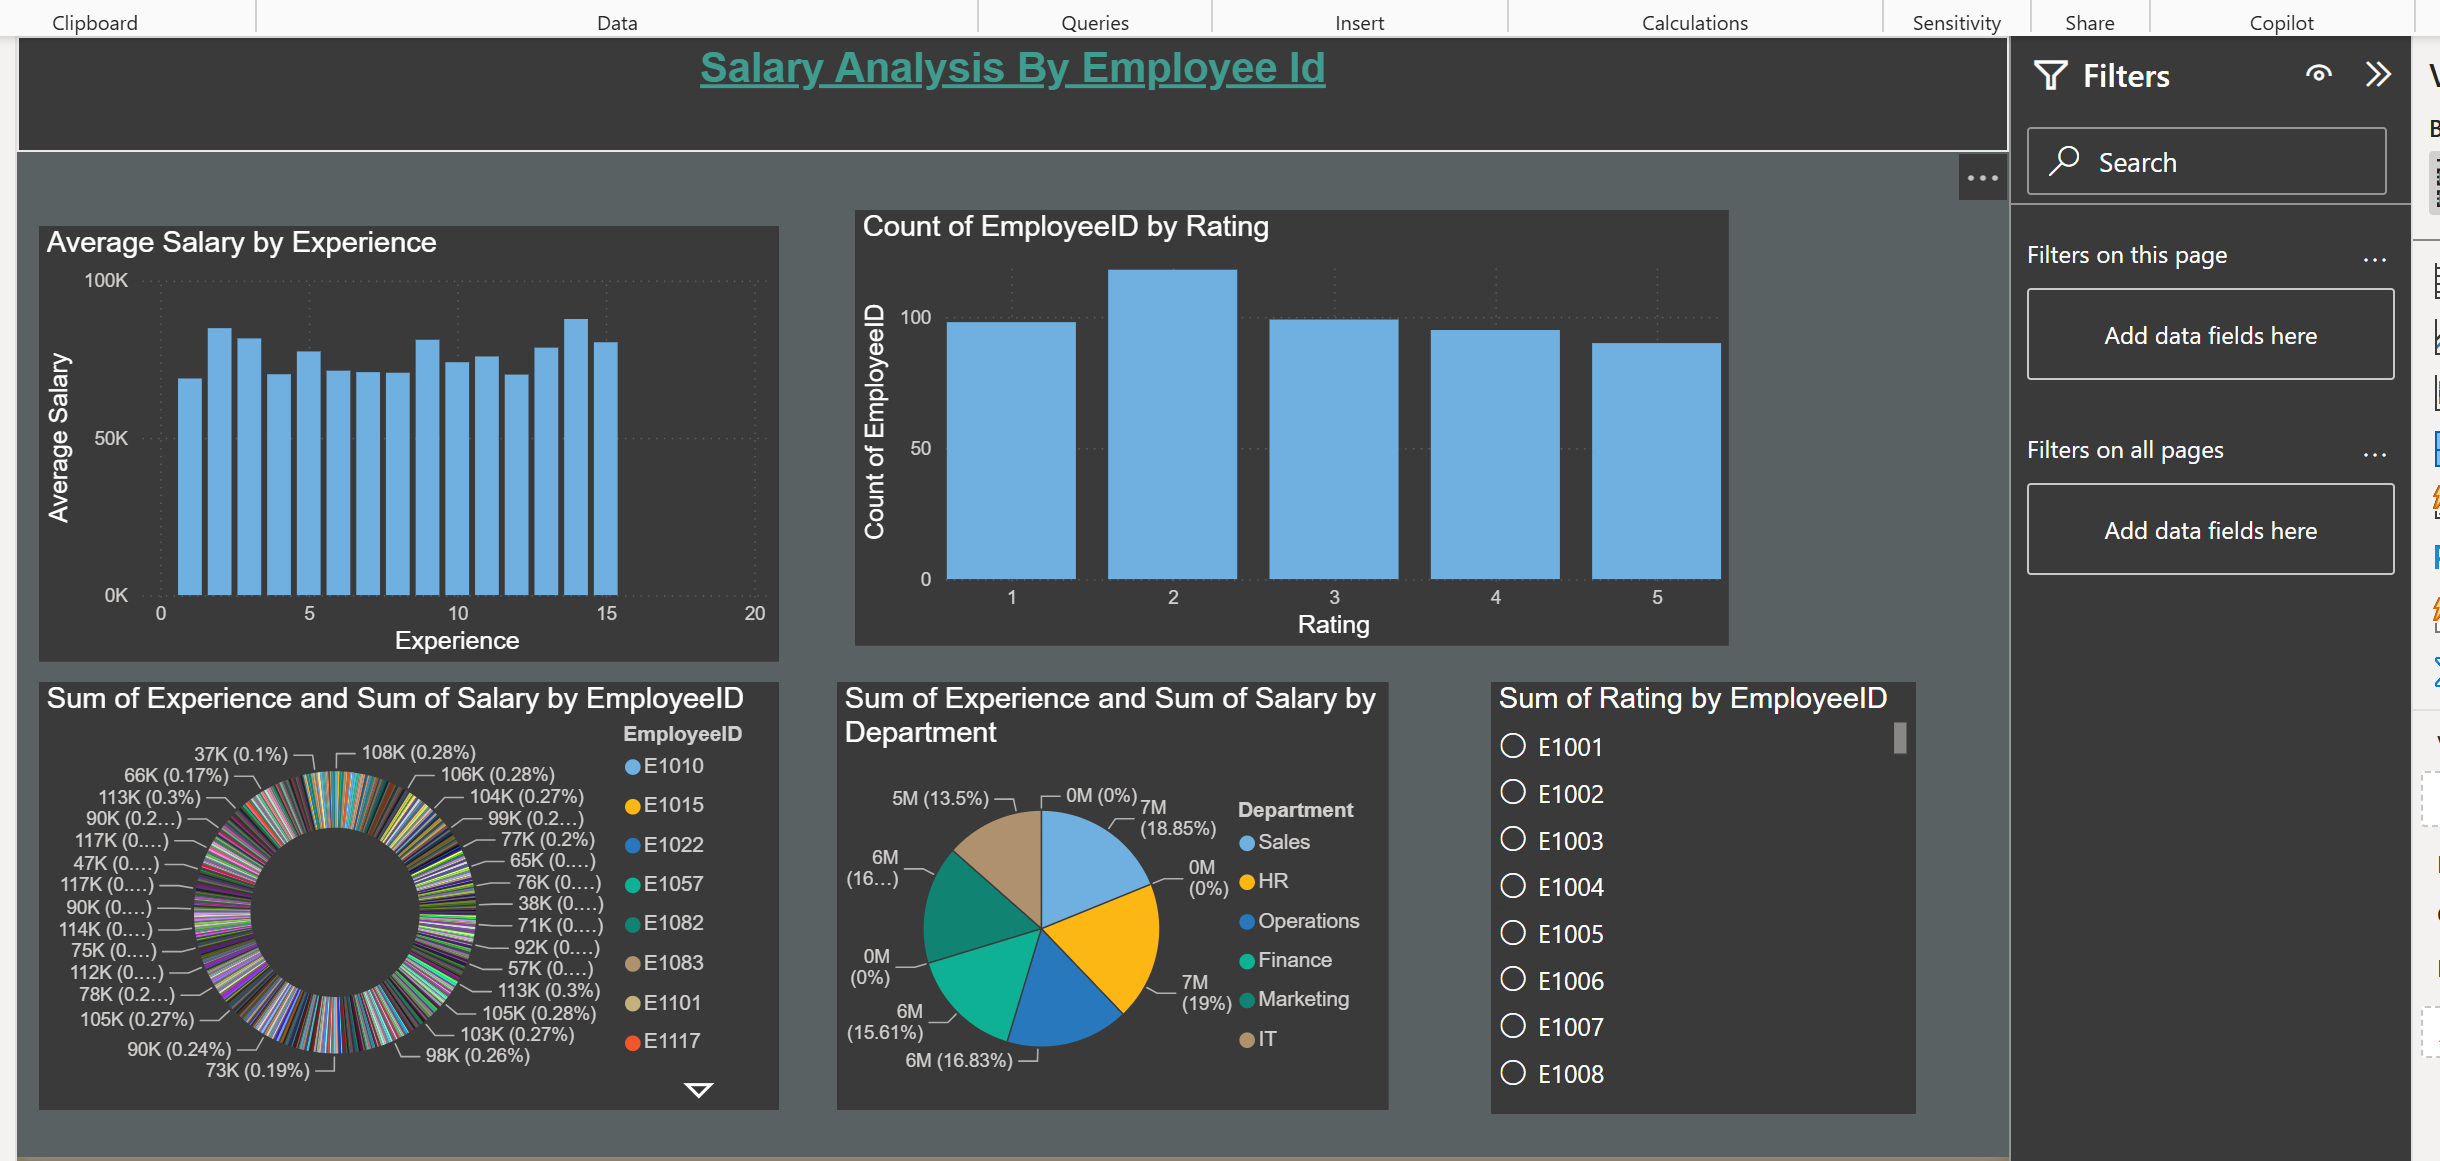

This screenshot's page, from the dashboard's own definition file:
{"tool":"powerbi","page":{"name":"Page 2","canvas":[1280,720],"ordinal":1},"visuals":[{"type":"clusteredColumnChart","fields":{"Category":["Employee.Rating"],"Y":["CountNonNull(Employee.EmployeeID)"]},"box":[538.5,111.8,561.6,280.2],"z":0},{"type":"columnChart","fields":{"Category":["Employee.Experience"],"Y":["Employee.Average Salary"]},"box":[14.1,122.1,475.5,280.2],"z":1000},{"type":"textbox","box":[0,0,1280,74.5],"z":1003},{"type":"listSlicer","fields":{"Values":["Employee.EmployeeID"]},"box":[947.1,415.1,272.4,277.6],"z":1004},{"type":"donutChart","fields":{"Y":["Sum(Employee.Experience)","Sum(Employee.Salary)"],"Category":["Employee.EmployeeID"]},"box":[14.1,415.1,475.5,275],"z":1005},{"type":"pieChart","fields":{"Y":["Sum(Employee.Experience)","Sum(Employee.Salary)"],"Category":["Employee.Department"]},"box":[526.9,415.1,354.7,275],"z":1006}]}

Visuals, with their boxes on the page's 1280x720 design canvas (x1, y1, x2, y2). These are canvas units, not pixel positions in the 2440x1161 screenshot, which may show the page scaled, cropped or inside an application window:
clusteredColumnChart - Employee.Rating x CountNonNull(Employee.EmployeeID): bbox=[538, 112, 1100, 392]
columnChart - Employee.Experience x Employee.Average Salary: bbox=[14, 122, 490, 402]
textbox: bbox=[0, 0, 1280, 74]
listSlicer - Employee.EmployeeID: bbox=[947, 415, 1220, 693]
donutChart - Sum(Employee.Experience) x Sum(Employee.Salary): bbox=[14, 415, 490, 690]
pieChart - Sum(Employee.Experience) x Sum(Employee.Salary): bbox=[527, 415, 882, 690]
